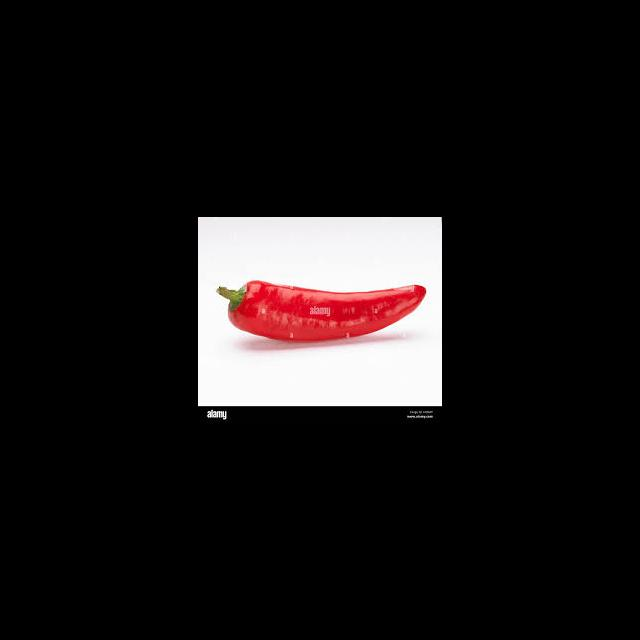chili_pepper: (223, 277, 441, 353)
